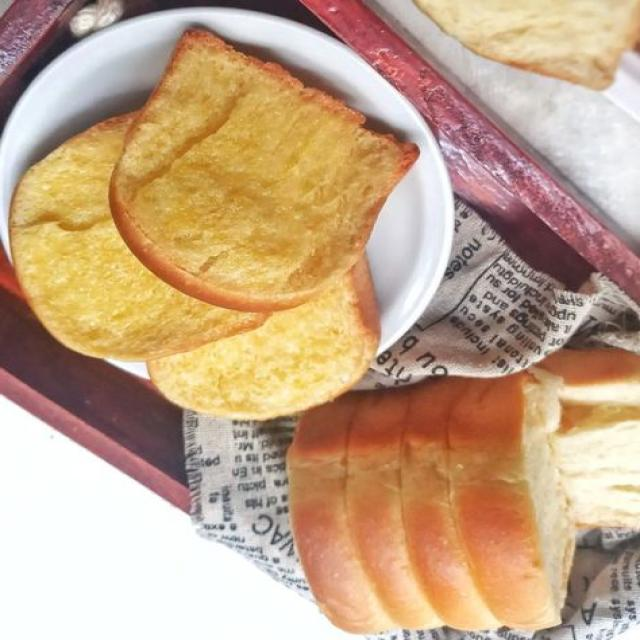roti tawar: (101, 25, 420, 314)
